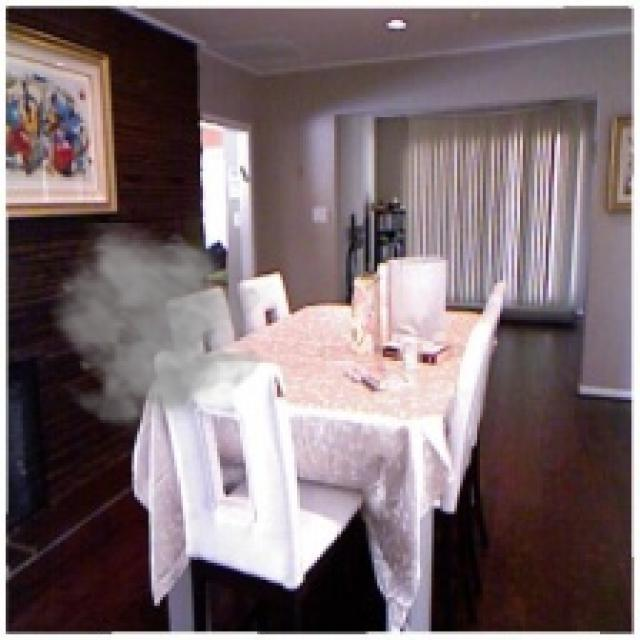Smoke: (46, 223, 266, 443)
